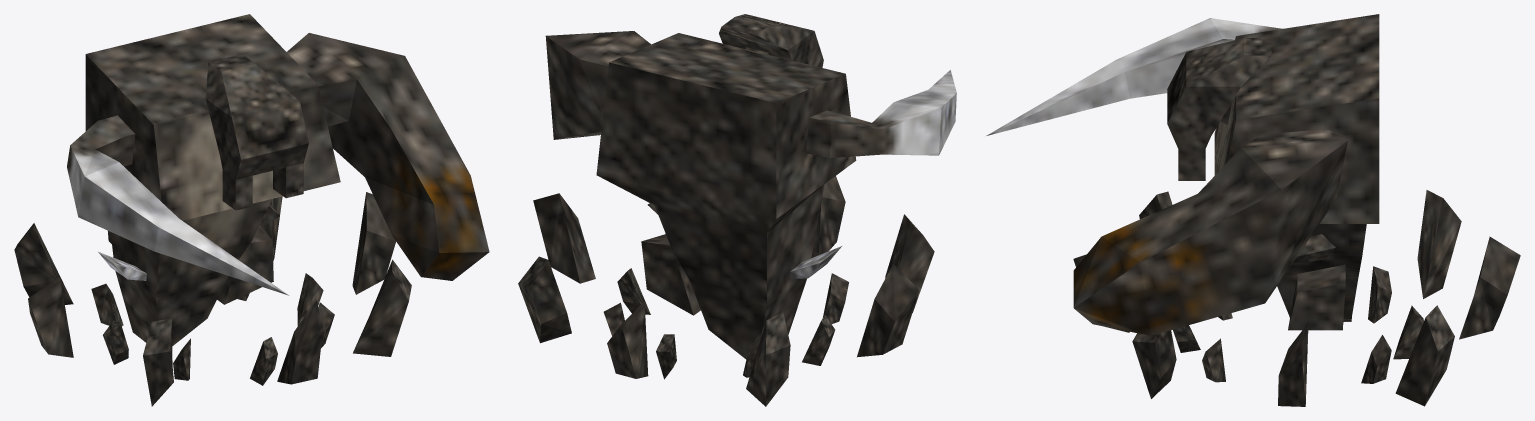
The model's file is geonach.obj.
3 views of the same model, side by side, from view 1: azimuth 30°, elevation 25°; view 2: azimuth 150°, elevation 25°; view 3: azimuth 270°, elevation 25° (orthographic). The views are drawn at different scales.
Visible parts, largest first — view 1: Body, ArmLeft, EffectOuter, ArmRight, Head, EffectInner, Body02; view 2: Body, EffectOuter, ArmRight, ArmLeft, EffectInner, Head, Body02; view 3: ArmLeft, Body, EffectOuter, Head, ArmRight, EffectInner, Body02, Body03.
Part boxes in pixels (left/top/right/bottom): Body: left=85, top=14, right=340, bottom=345; ArmLeft: left=287, top=33, right=489, bottom=280; EffectOuter: left=14, top=192, right=411, bottom=406; ArmRight: left=67, top=115, right=289, bottom=295; Head: left=205, top=54, right=308, bottom=210; EffectInner: left=91, top=273, right=334, bottom=385; Body02: left=217, top=225, right=273, bottom=304; Body: left=596, top=33, right=856, bottom=359; EffectOuter: left=518, top=176, right=934, bottom=406; ArmRight: left=806, top=70, right=956, bottom=158; ArmLeft: left=545, top=31, right=650, bottom=139; EffectInner: left=603, top=268, right=848, bottom=379; Head: left=719, top=14, right=823, bottom=67; Body02: left=641, top=234, right=700, bottom=315; ArmLeft: left=1073, top=129, right=1347, bottom=335; Body: left=1214, top=14, right=1379, bottom=322; EffectOuter: left=1073, top=190, right=1520, bottom=406; Head: left=1167, top=38, right=1271, bottom=180; ArmRight: left=986, top=18, right=1282, bottom=135; EffectInner: left=1173, top=266, right=1423, bottom=383; Body02: left=1288, top=264, right=1345, bottom=330; Body03: left=1292, top=234, right=1335, bottom=264.
Size of the model in its own units: 2.48 by 1.86 by 2.93.
